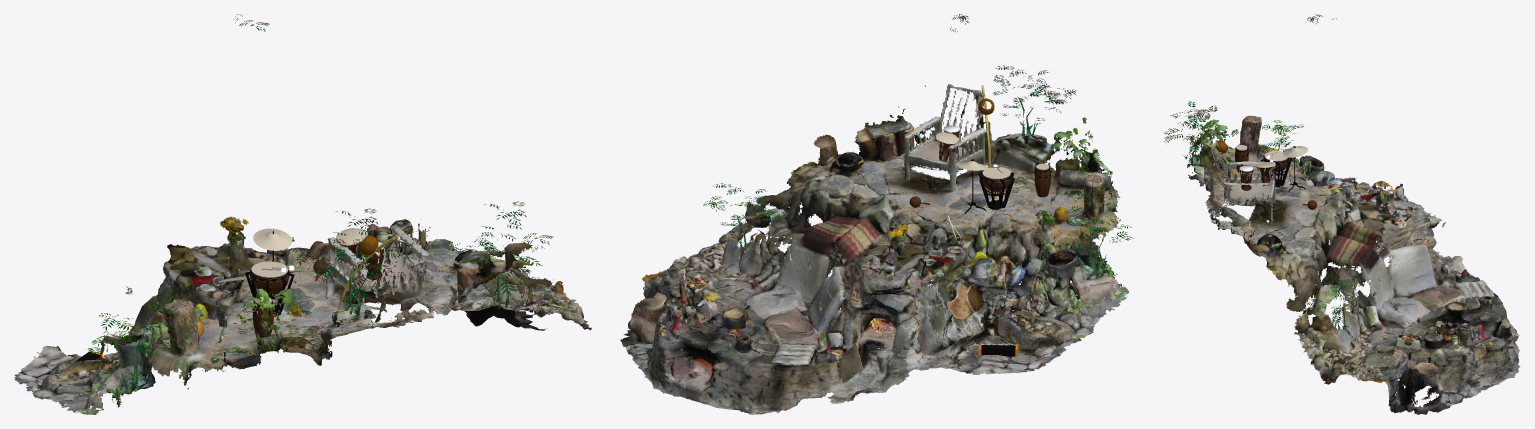
File: dead-can-dance-Insel.glb
3 renders of one model, left to right at view 1: azimuth 30°, elevation 25°; view 2: azimuth 150°, elevation 25°; view 3: azimuth 270°, elevation 25°, orthographic. The views are drawn at different scales.
Parts seen in each view (by area): view 1: Polygon Reduction, pCylinder69; view 2: Polygon Reduction; view 3: Polygon Reduction.
Boxes of the visible parts, left/top/right/bottom form: Polygon Reduction: left=14, top=216, right=591, bottom=414; pCylinder69: left=253, top=228, right=292, bottom=250; Polygon Reduction: left=620, top=84, right=1128, bottom=414; Polygon Reduction: left=1184, top=108, right=1520, bottom=414.
Size of what is drawn, in the model's own units: 54.63 by 41.04 by 46.58.
26 materials, 4 textured.
